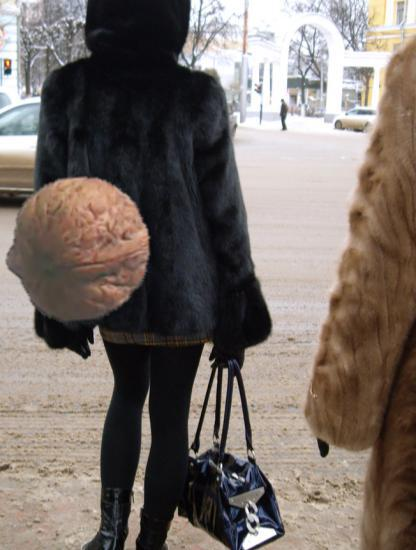Walnut: (3, 174, 153, 324)
